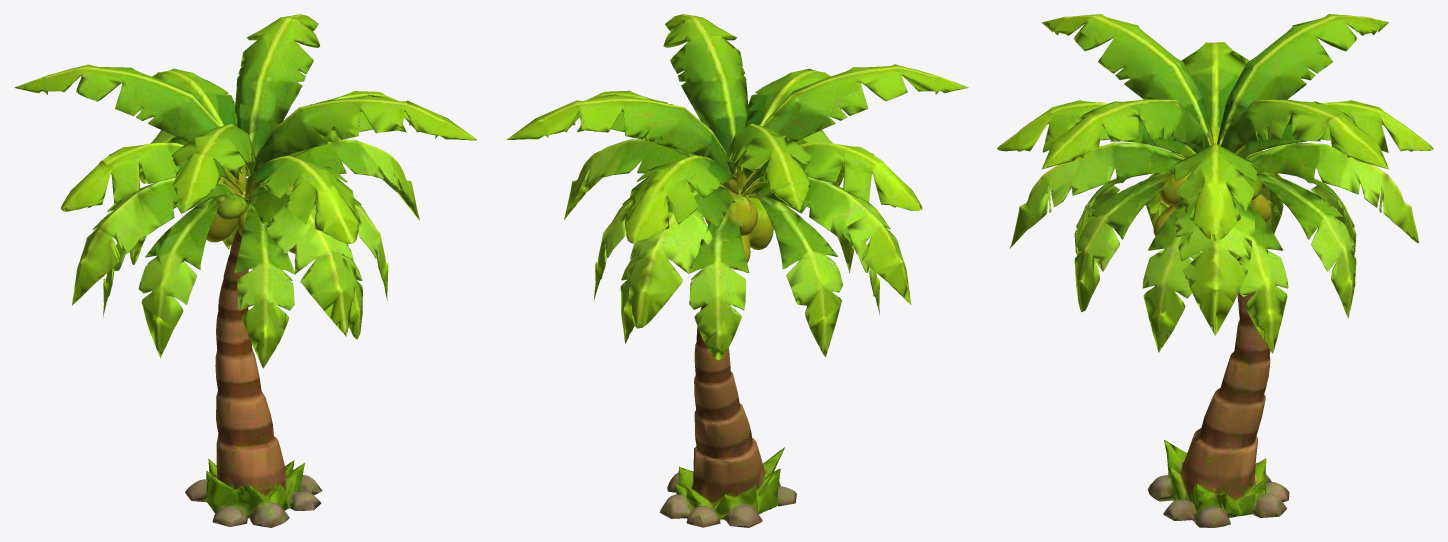
The model's file is palm-tree.glb.
3 views of the same model, side by side, from view 1: azimuth 30°, elevation 25°; view 2: azimuth 150°, elevation 25°; view 3: azimuth 270°, elevation 25° (orthographic). The views are drawn at different scales.
Bounding box in the file's own units: 1.75 × 1.9 × 1.76.
1 material, 1 textured.
